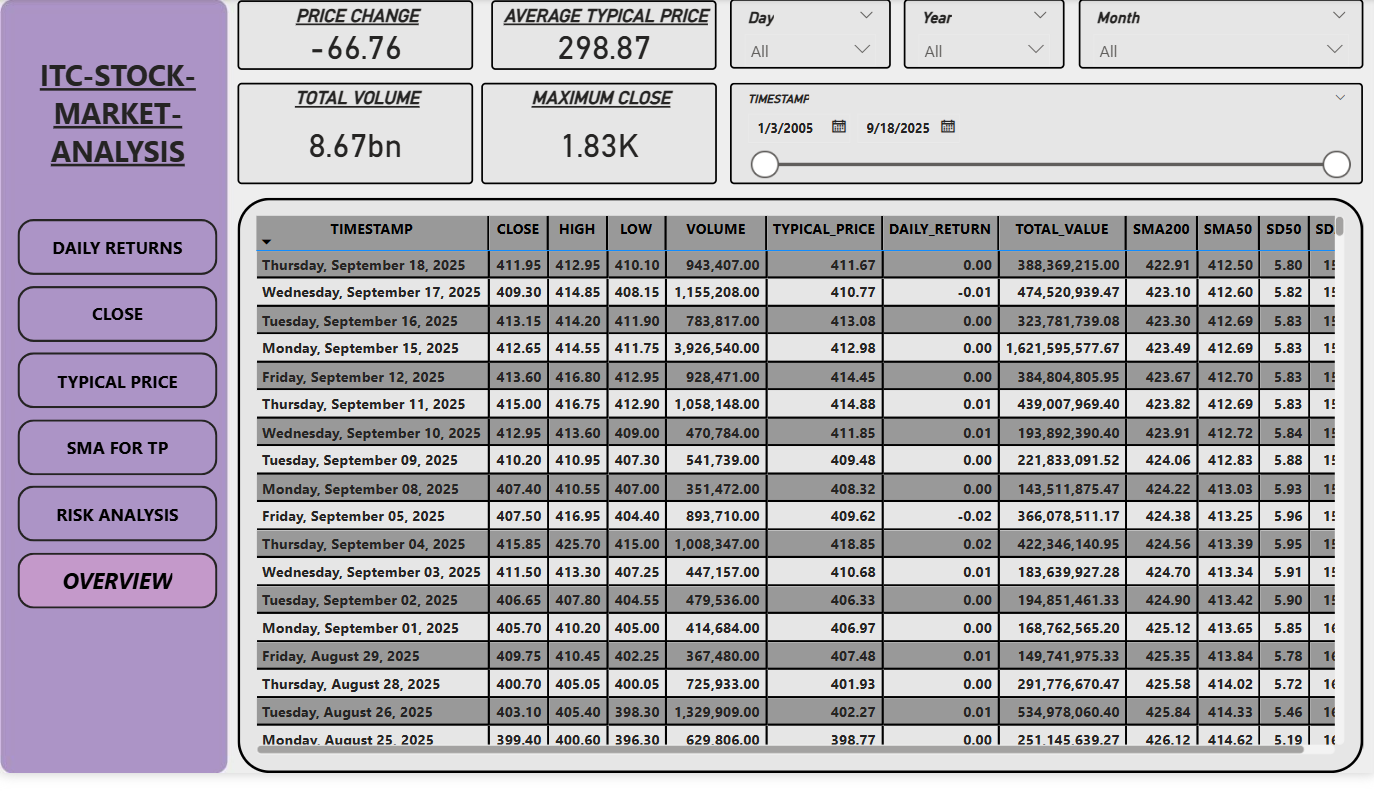

The dashboard page shown, as its layout file describes it:
{"tool":"powerbi","page":{"name":"OVERVIEW","canvas":[1280,720],"ordinal":5},"visuals":[{"type":"textbox","box":[16.5,48,186.6,124.9],"z":0},{"type":"card","title":"TOTAL VOLUME","fields":{"Values":["Sum(FINAL_ITC_STOCK_UPDATED_TABLE.VOLUME)"]},"box":[220.9,78.2,219.6,94.7],"z":1000},{"type":"card","title":"AVERAGE TYPICAL PRICE","fields":{"Values":["Avg(FINAL_ITC_STOCK_UPDATED_TABLE.TYPICAL_PRICE)"]},"box":[456.9,1.4,209.9,64.5],"z":2000},{"type":"slicer","fields":{"Values":["FINAL_ITC_STOCK_UPDATED_TABLE.TIMESTAMP.Variation.Date Hierarchy.Year"]},"box":[841.2,0,149.6,64.5],"z":3000},{"type":"slicer","fields":{"Values":["FINAL_ITC_STOCK_UPDATED_TABLE.TIMESTAMP.Variation.Date Hierarchy.Month"]},"box":[1003.1,0,264.8,64.5],"z":4000},{"type":"slicer","fields":{"Values":["FINAL_ITC_STOCK_UPDATED_TABLE.TIMESTAMP.Variation.Date Hierarchy.Day"]},"box":[679.2,0,149.6,64.5],"z":5000},{"type":"card","title":"MAXIMUM CLOSE","fields":{"Values":["Max(FINAL_ITC_STOCK_UPDATED_TABLE.CLOSE)"]},"box":[447.3,78.2,219.6,94.7],"z":6000},{"type":"card","title":"PRICE CHANGE","fields":{"Values":["FINAL_ITC_STOCK_UPDATED_TABLE.Price_Change%"]},"box":[220.9,1.4,219.6,64.5],"z":7000},{"type":"slicer","fields":{"Values":["FINAL_ITC_STOCK_UPDATED_TABLE.TIMESTAMP"]},"box":[679.2,78.2,588.7,94.7],"z":8000},{"type":"pageNavigator","box":[16.5,204.5,186.6,362.3],"z":9000},{"type":"tableEx","fields":{"Values":["FINAL_ITC_STOCK_UPDATED_TABLE.TIMESTAMP","FINAL_ITC_STOCK_UPDATED_TABLE.CLOSE","FINAL_ITC_STOCK_UPDATED_TABLE.HIGH","FINAL_ITC_STOCK_UPDATED_TABLE.LOW","FINAL_ITC_STOCK_UPDATED_TABLE.VOLUME","FINAL_ITC_STOCK_UPDATED_TABLE.TYPICAL_PRICE","FINAL_ITC_STOCK_UPDATED_TABLE.DAILY_RETURN","FINAL_ITC_STOCK_UPDATED_TABLE.TOTAL_VALUE","FINAL_ITC_STOCK_UPDATED_TABLE.SMA200","FINAL_ITC_STOCK_UPDATED_TABLE.SMA50","FINAL_ITC_STOCK_UPDATED_TABLE.SD50","FINAL_ITC_STOCK_UPDATED_TABLE.SD200"]},"box":[220.9,185.2,1047,535.2],"z":10000}]}

Visuals, with their boxes in screenshot pixels (x1, y1, x2, y2), scaled from the page's 1280x720 canvas onto the 1374x791 screenshot:
textbox: pyautogui.locateOnScreen(18, 53, 218, 190)
"TOTAL VOLUME" card: pyautogui.locateOnScreen(237, 86, 473, 190)
"AVERAGE TYPICAL PRICE" card: pyautogui.locateOnScreen(490, 2, 716, 72)
slicer - FINAL_ITC_STOCK_UPDATED_TABLE.TIMESTAMP.Variation.Date Hierarchy.Year: pyautogui.locateOnScreen(903, 0, 1064, 71)
slicer - FINAL_ITC_STOCK_UPDATED_TABLE.TIMESTAMP.Variation.Date Hierarchy.Month: pyautogui.locateOnScreen(1077, 0, 1361, 71)
slicer - FINAL_ITC_STOCK_UPDATED_TABLE.TIMESTAMP.Variation.Date Hierarchy.Day: pyautogui.locateOnScreen(729, 0, 890, 71)
"MAXIMUM CLOSE" card: pyautogui.locateOnScreen(480, 86, 716, 190)
"PRICE CHANGE" card: pyautogui.locateOnScreen(237, 2, 473, 72)
slicer - FINAL_ITC_STOCK_UPDATED_TABLE.TIMESTAMP: pyautogui.locateOnScreen(729, 86, 1361, 190)
pageNavigator: pyautogui.locateOnScreen(18, 225, 218, 623)
tableEx - FINAL_ITC_STOCK_UPDATED_TABLE.TIMESTAMP x FINAL_ITC_STOCK_UPDATED_TABLE.CLOSE: pyautogui.locateOnScreen(237, 203, 1361, 790)
